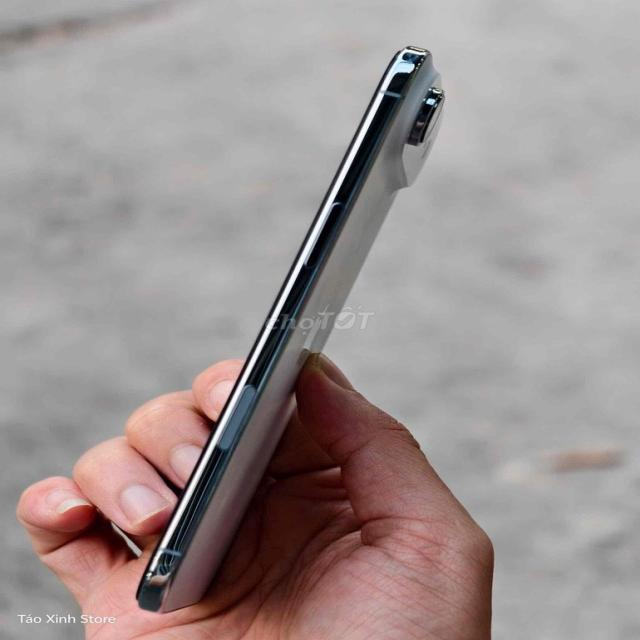gen_17: (136, 47, 444, 612)
